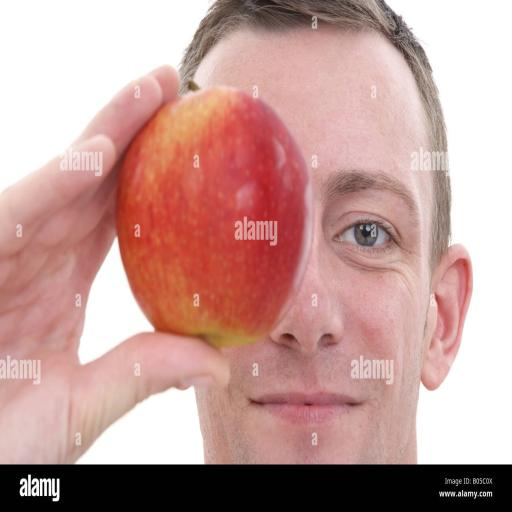apple: (116, 87, 312, 346)
